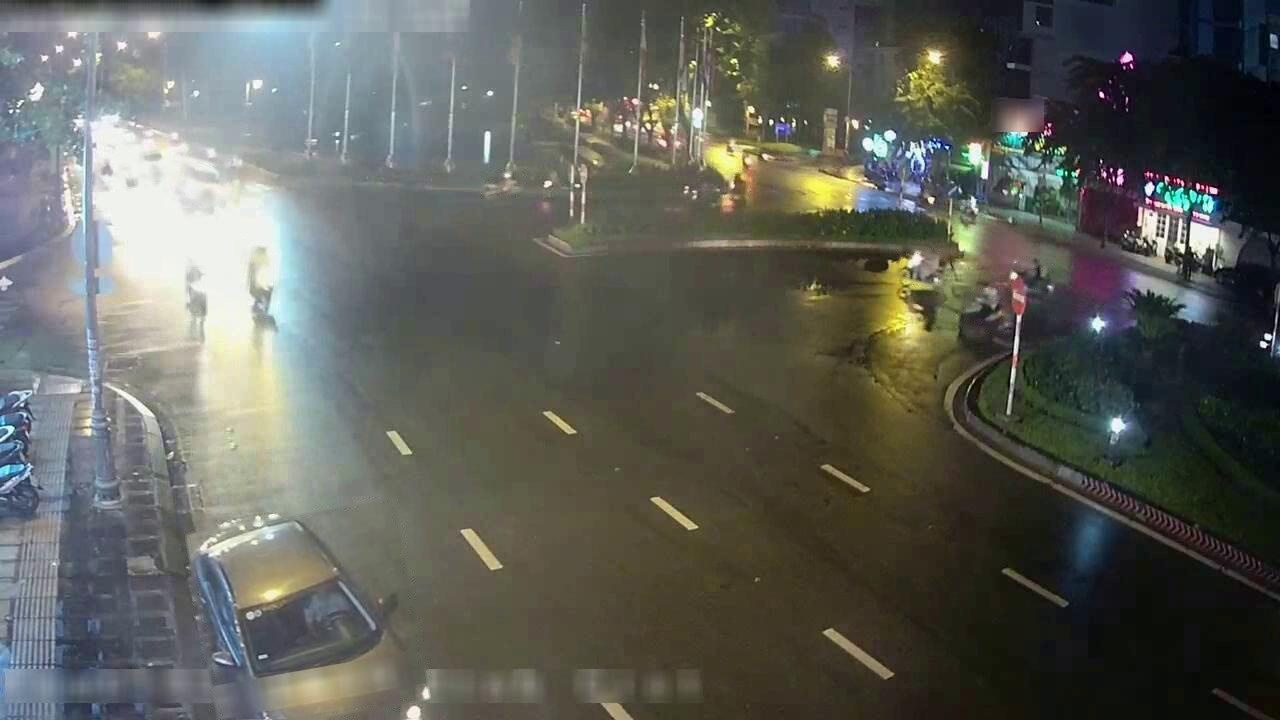Car: (191, 514, 415, 719), (179, 158, 223, 203), (138, 148, 166, 181)
Motorcycle: (0, 462, 39, 516), (0, 410, 32, 460)
Motorcyclist: (247, 246, 276, 315), (960, 289, 1005, 329), (1010, 264, 1055, 295), (901, 251, 943, 283), (186, 264, 207, 322), (483, 176, 522, 198), (96, 160, 115, 189), (730, 173, 747, 197), (226, 154, 242, 179), (121, 165, 137, 188)
Sign: (1011, 274, 1027, 315)
Traffic light: (1097, 50, 1136, 111)
